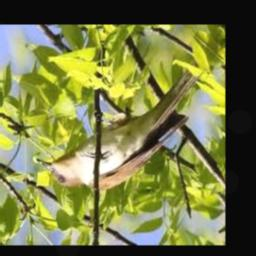Cuckoo: (36, 55, 204, 189)
